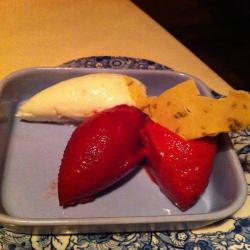icecream: (48, 104, 149, 201), (15, 70, 146, 132), (142, 123, 219, 207)
